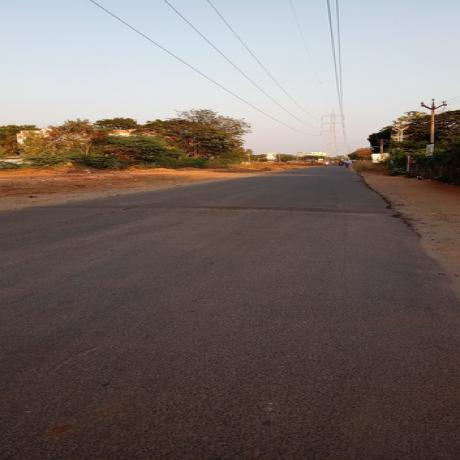Speed Bump: (22, 200, 398, 216)
